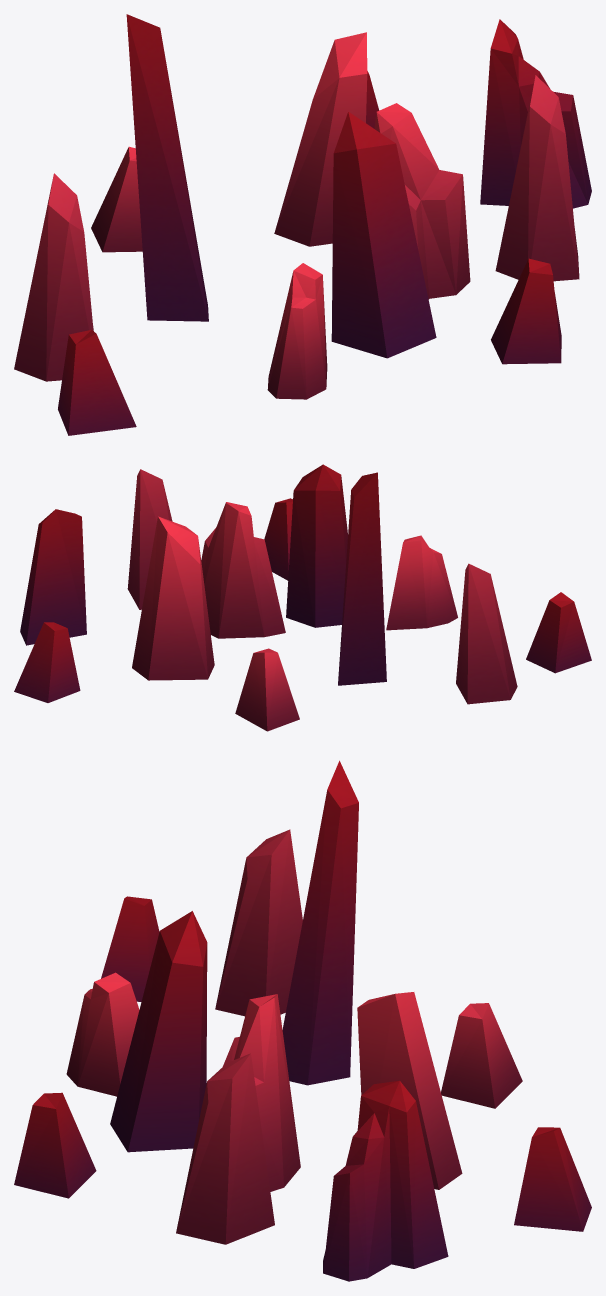
Rendered from ZLP_Crystalk_B_14.FBX.
The picture shows the model from 3 angles, top to bottom: view 1: azimuth 30°, elevation 25°; view 2: azimuth 150°, elevation 25°; view 3: azimuth 270°, elevation 25°; orthographic projection. The views are drawn at different scales.
Visible parts, largest first — view 1: ZLP_Crystalk_B_14; view 2: ZLP_Crystalk_B_14; view 3: ZLP_Crystalk_B_14.
Boxes of the visible parts, bbox=[...] form: ZLP_Crystalk_B_14: bbox=[14, 14, 591, 435]; ZLP_Crystalk_B_14: bbox=[14, 464, 591, 731]; ZLP_Crystalk_B_14: bbox=[14, 760, 591, 1281].
Size of the model in its own units: 316 by 139 by 247.
